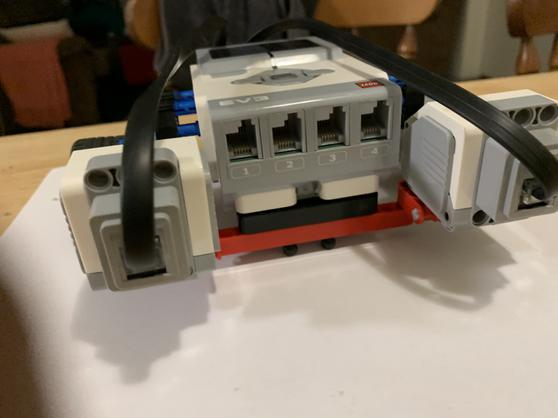robot: (46, 37, 558, 298)
